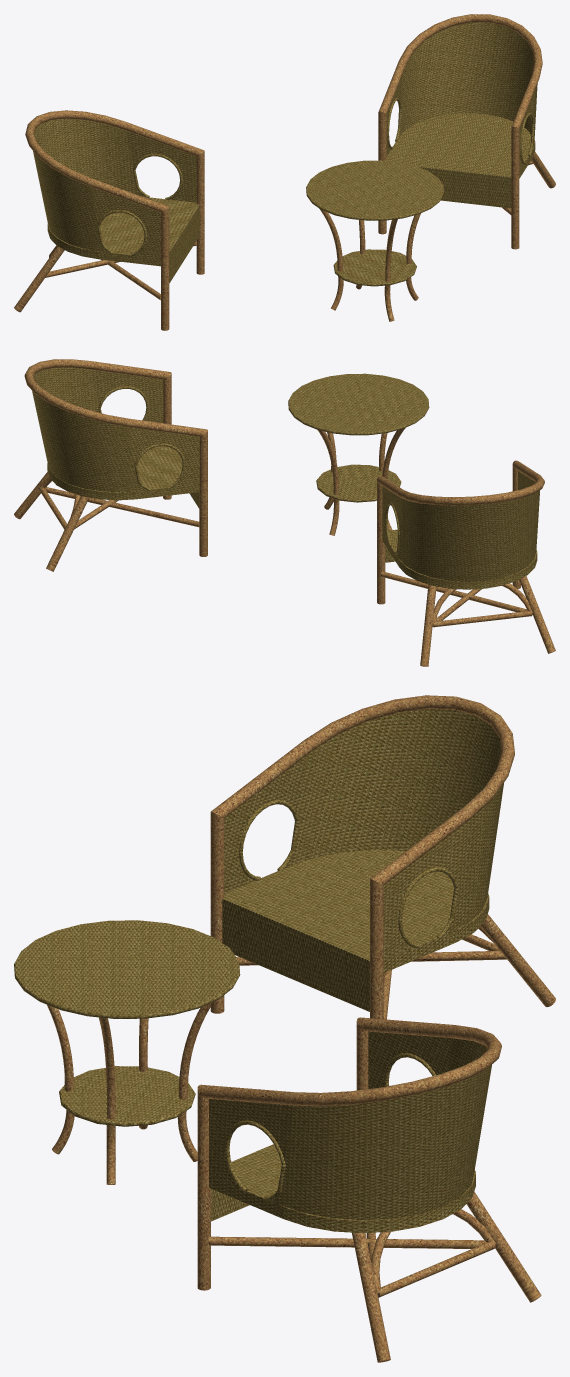
File: garden furniture 4.dae
The picture shows the model from 3 angles, top to bottom: view 1: azimuth 30°, elevation 25°; view 2: azimuth 150°, elevation 25°; view 3: azimuth 270°, elevation 25°; orthographic projection. The views are drawn at different scales.
Parts seen in each view (by area): view 1: group_0 (×3), group_7 (×3), OD_0.03_m_ID_0.01_m (×2), group_4 (×2), group_3, D_0.01_m (×2), D_0.03_m, group_8; view 2: group_0 (×2), group_7 (×2), OD_0.03_m_ID_0.01_m (×2), group_4 (×2), D_0.03_m (×4), group_3, group_8 (×2), group_1, D_0.01_m, group_5; view 3: group_7 (×3), group_0 (×2), OD_0.03_m_ID_0.01_m (×2), group_4 (×2), group_3, D_0.03_m (×3), group_1 (×2), D_0.01_m (×3), group_5 (×3), group_8.
Part boxes in pixels (bbox=[...]): group_0 (×3): bbox=[386, 22, 537, 208]; group_7 (×3): bbox=[33, 118, 199, 283]; OD_0.03_m_ID_0.01_m (×2): bbox=[25, 14, 542, 330]; group_4 (×2): bbox=[306, 160, 443, 220]; group_3: bbox=[333, 249, 416, 286]; D_0.01_m (×2): bbox=[97, 153, 182, 256]; D_0.03_m: bbox=[14, 246, 64, 312]; group_8: bbox=[45, 241, 196, 277]; group_0 (×2): bbox=[32, 367, 199, 500]; group_7 (×2): bbox=[382, 471, 539, 589]; OD_0.03_m_ID_0.01_m (×2): bbox=[24, 359, 544, 604]; group_4 (×2): bbox=[288, 373, 429, 435]; D_0.03_m (×4): bbox=[14, 472, 555, 666]; group_3: bbox=[316, 464, 401, 502]; group_8 (×2): bbox=[381, 571, 532, 627]; group_1: bbox=[44, 487, 199, 527]; D_0.01_m: bbox=[134, 443, 185, 491]; group_5: bbox=[317, 430, 338, 494]; group_7 (×3): bbox=[222, 708, 503, 1011]; group_0 (×2): bbox=[209, 1031, 491, 1233]; OD_0.03_m_ID_0.01_m (×2): bbox=[197, 695, 514, 1290]; group_4 (×2): bbox=[14, 920, 240, 1018]; group_3: bbox=[59, 1066, 195, 1126]; D_0.03_m (×3): bbox=[352, 914, 555, 1362]; group_1 (×2): bbox=[209, 1236, 495, 1297]; D_0.01_m (×3): bbox=[225, 799, 458, 1201]; group_5 (×3): bbox=[47, 1001, 213, 1119]; group_8: bbox=[236, 951, 506, 965].
Bounding box in the file's own units: 88.47 × 47.38 × 25.84.
4 materials, 3 textured.
